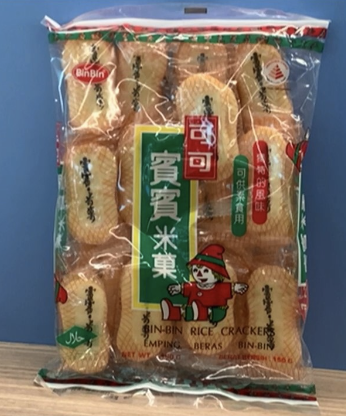crackers_150g: (69, 38, 292, 376)
